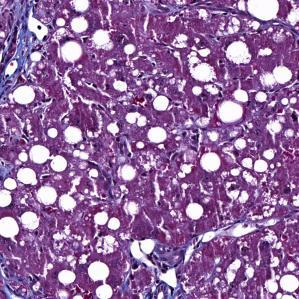fibrosis: (0, 0, 35, 98)
